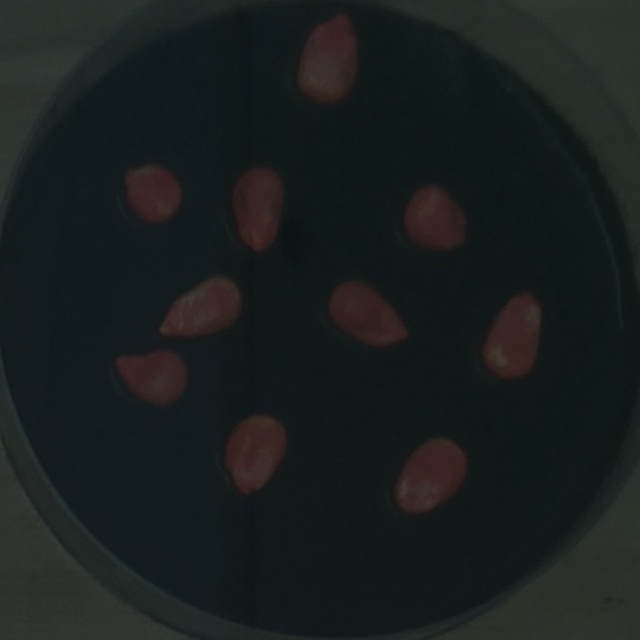Zea mays: (386, 428, 475, 523), (289, 5, 367, 110), (321, 270, 415, 356), (150, 266, 251, 346), (475, 282, 550, 388), (213, 406, 295, 502), (224, 158, 292, 260), (396, 175, 475, 260), (106, 344, 195, 415), (115, 155, 188, 231)
